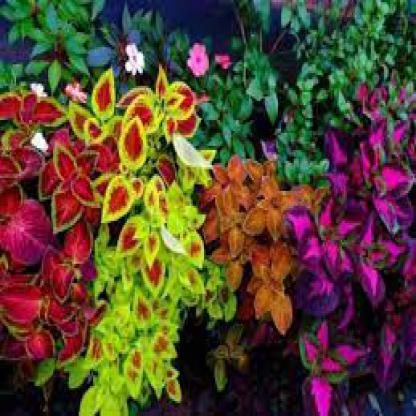Bunga Coleus: (101, 81, 184, 381), (301, 140, 398, 374), (6, 68, 92, 319), (204, 158, 294, 323)
